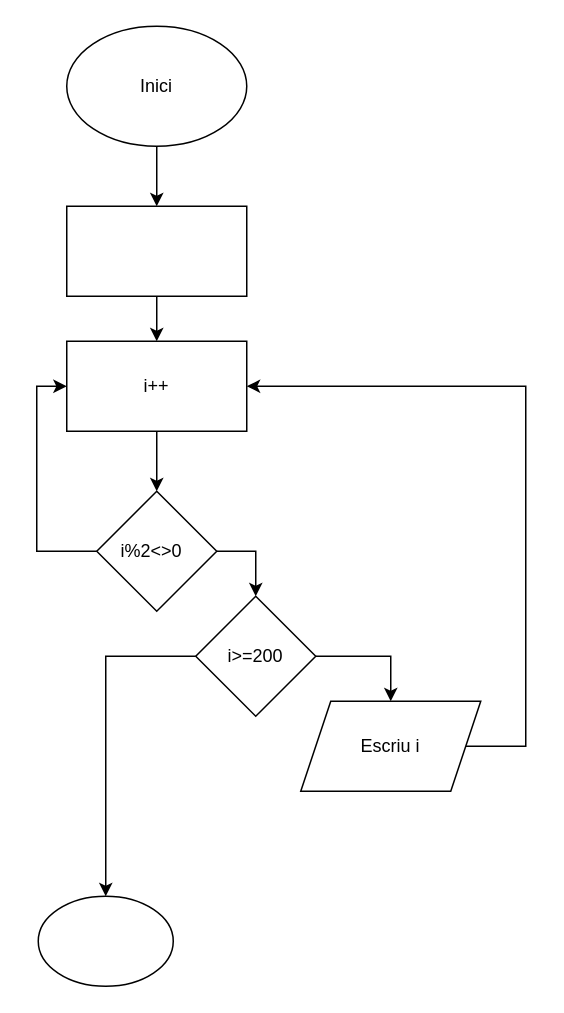
This 564x1013 diagram has some shape labels left out. Each missing label, with the centre of its shape:
"Fi" belongs at pixel 105 940.
"i=0" belongs at pixel 156 250.
